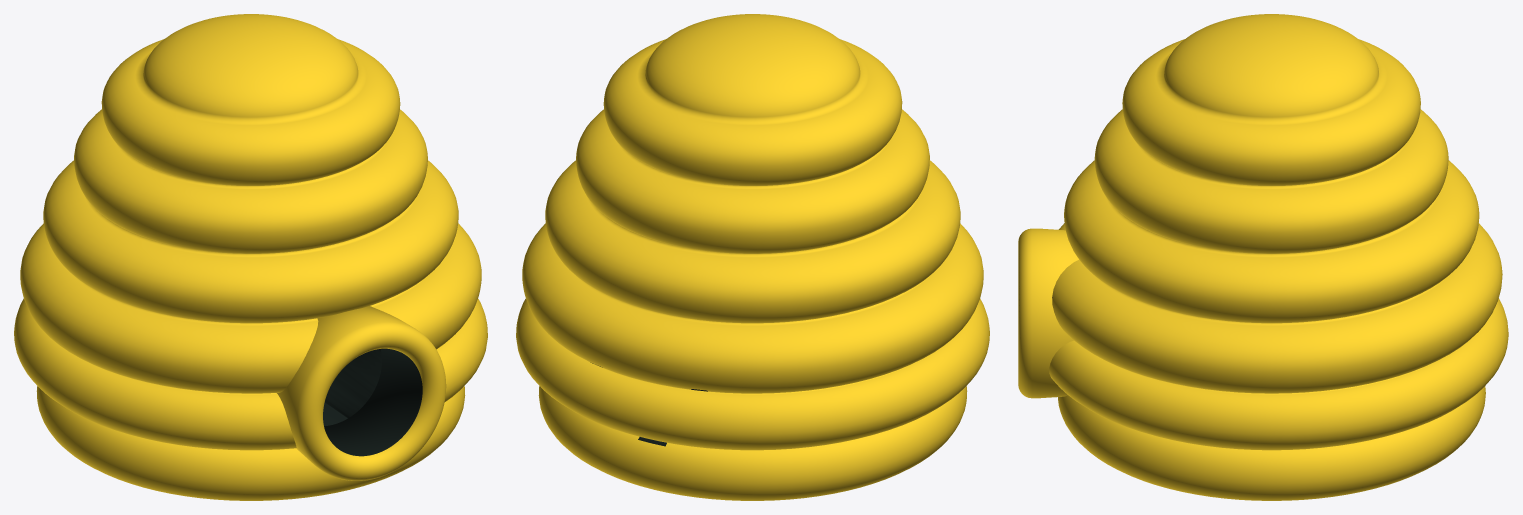
Rendered from Large_Hive_Collector.fbx.
3 renders of one model, left to right at view 1: azimuth 30°, elevation 25°; view 2: azimuth 150°, elevation 25°; view 3: azimuth 270°, elevation 25°, orthographic.
Parts seen in each view (by area): view 1: Large_Hive_Collector_Body, Large_Hive_Collector_Entrance_Collar; view 2: Large_Hive_Collector_Body; view 3: Large_Hive_Collector_Body, Large_Hive_Collector_Entrance_Collar.
Part boxes in pixels (left/top/right/bottom): Large_Hive_Collector_Body: left=14, top=14, right=487, bottom=500; Large_Hive_Collector_Entrance_Collar: left=277, top=306, right=446, bottom=480; Large_Hive_Collector_Body: left=516, top=14, right=989, bottom=500; Large_Hive_Collector_Body: left=1049, top=14, right=1508, bottom=500; Large_Hive_Collector_Entrance_Collar: left=1018, top=228, right=1078, bottom=398.
Bounding box in the file's own units: 326 × 295 × 338.
